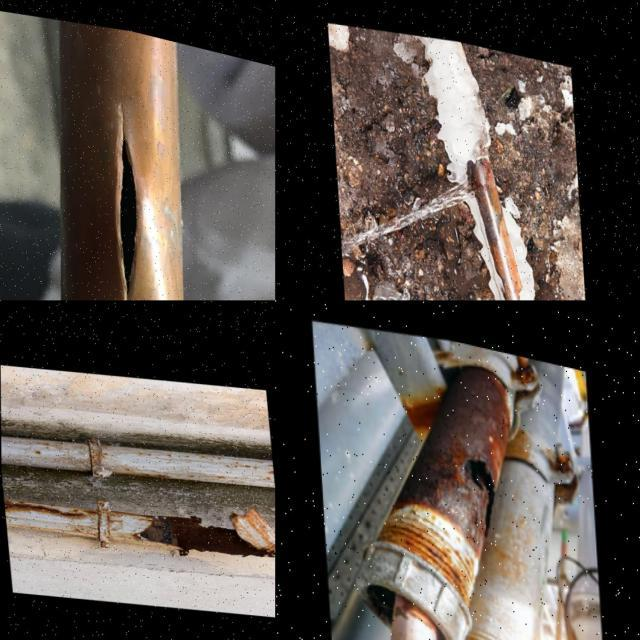crack: (3, 496, 90, 516)
hole: (136, 510, 273, 568), (470, 443, 496, 518)
rupture: (102, 80, 150, 301), (466, 156, 480, 185)
